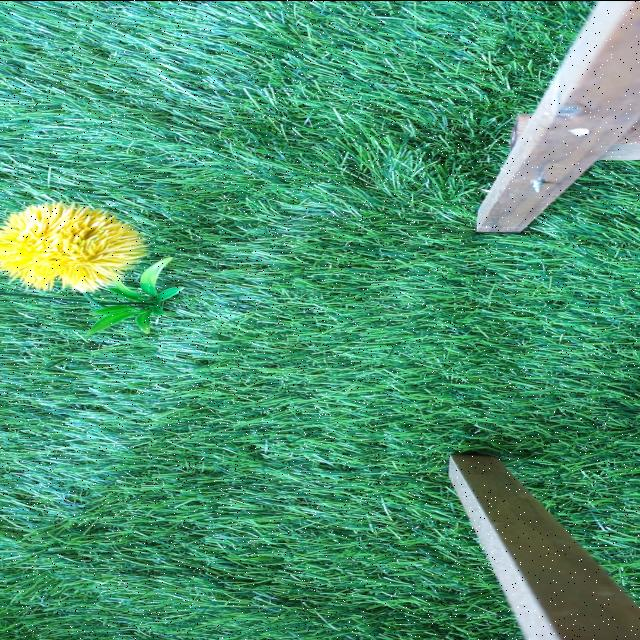base: (88, 256, 183, 332)
flower: (0, 203, 141, 291)
